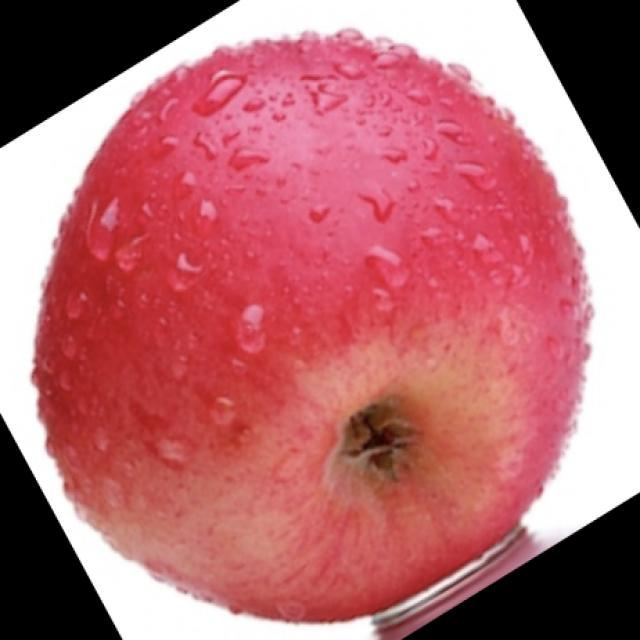Fresh Apple: (35, 31, 595, 622)
